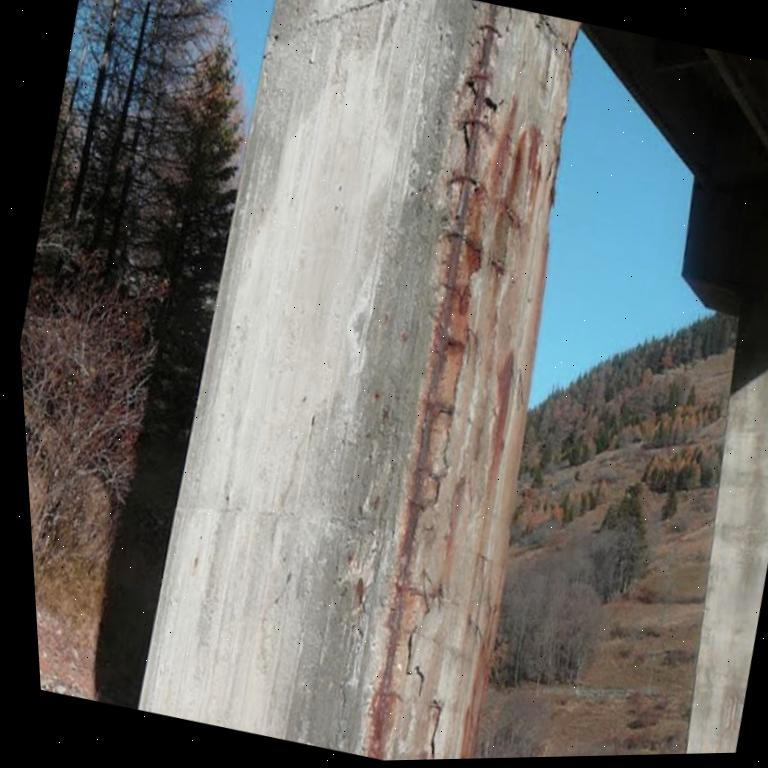exposed_rebar: (364, 3, 498, 760)
spalling: (361, 3, 499, 760)
